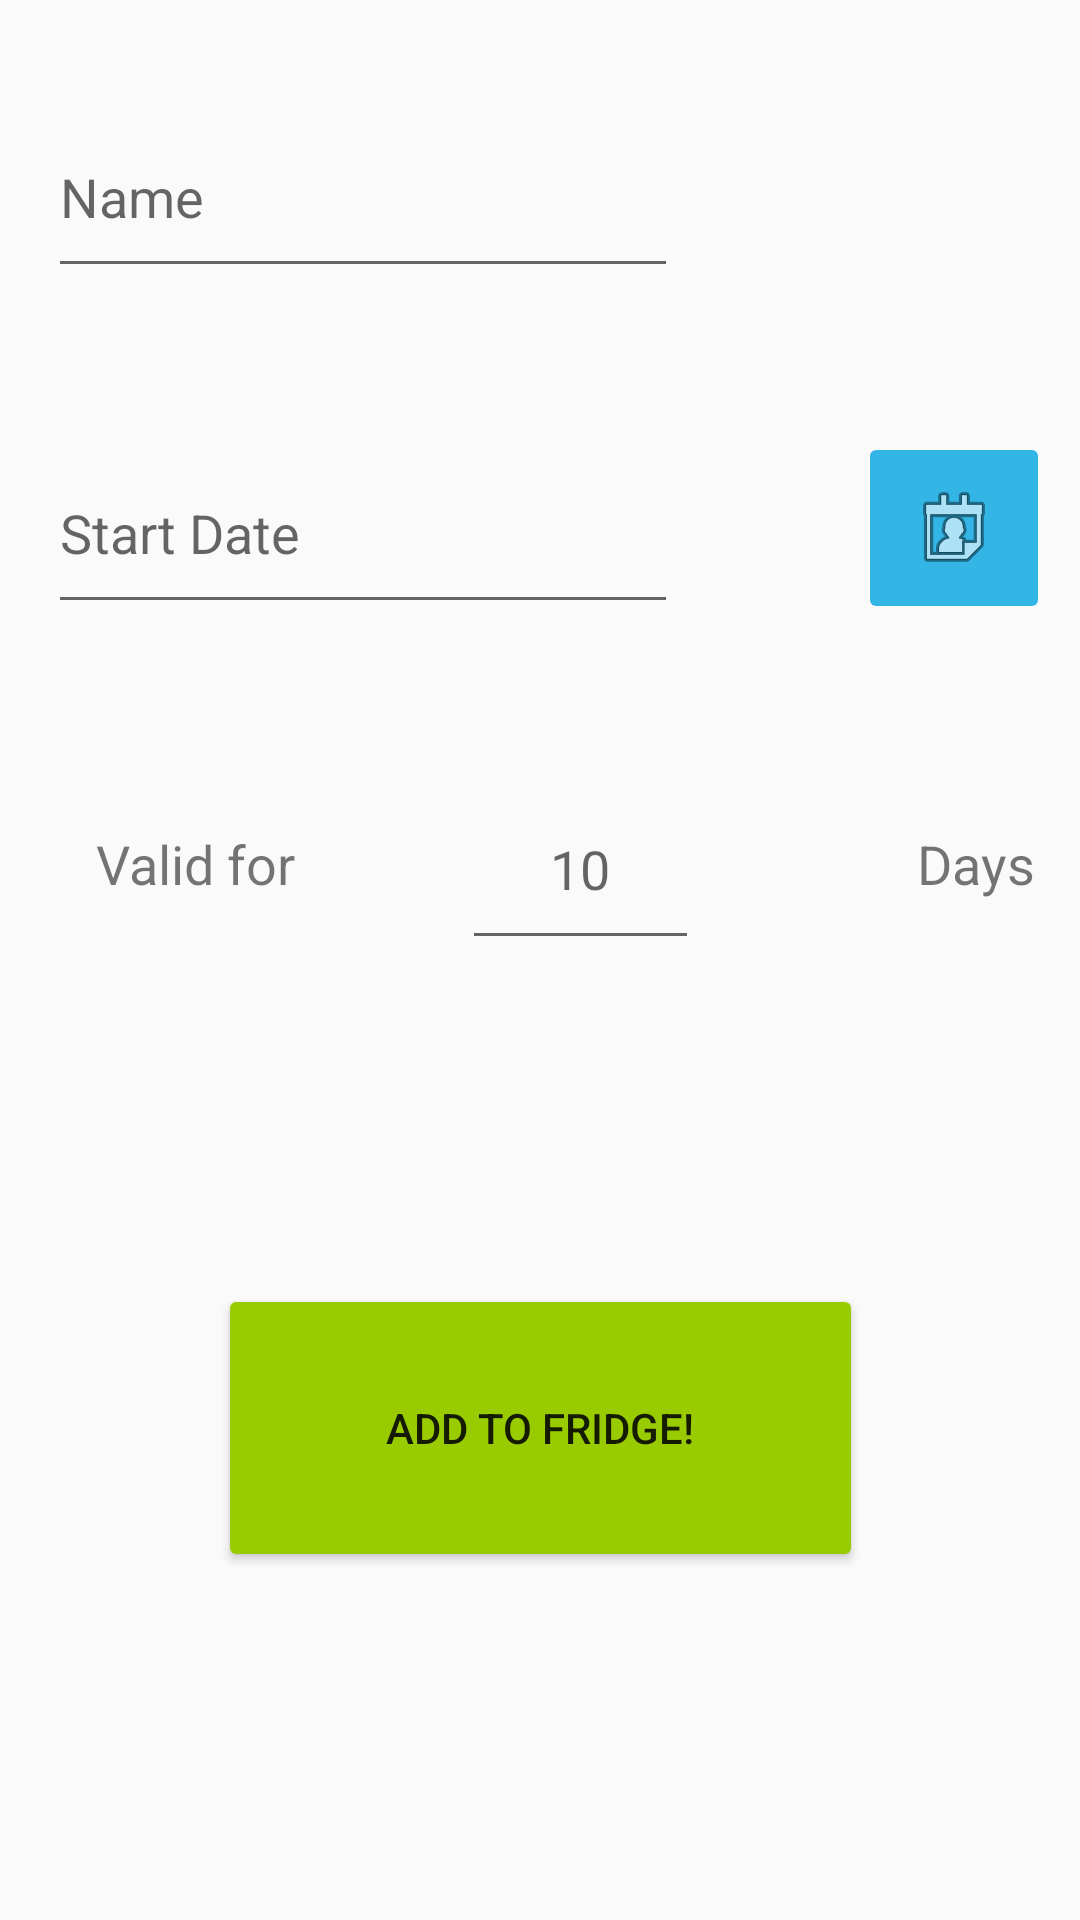

Screen size 1080px x 1920px. Icon name, then its center in pixels as (x=x, y=y):
Date Picker: (x=954, y=528)
